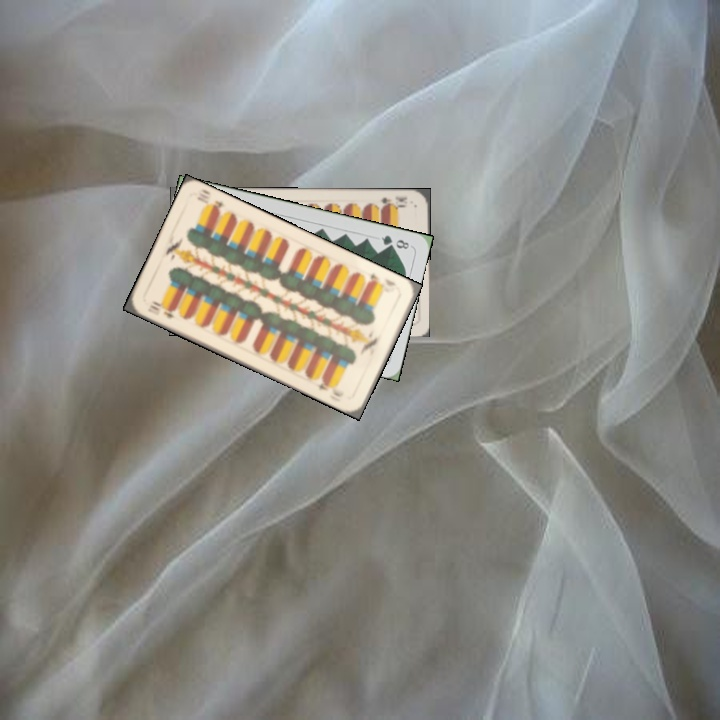E10: (145, 297, 177, 321), (364, 268, 399, 289), (373, 191, 409, 211)
G8: (377, 231, 414, 252)
